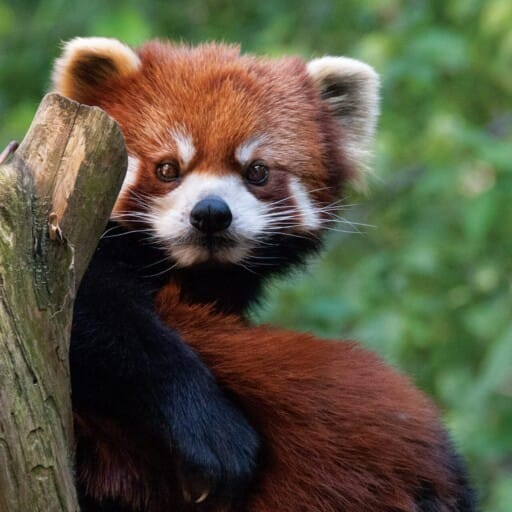Red panda: (53, 29, 383, 283)
